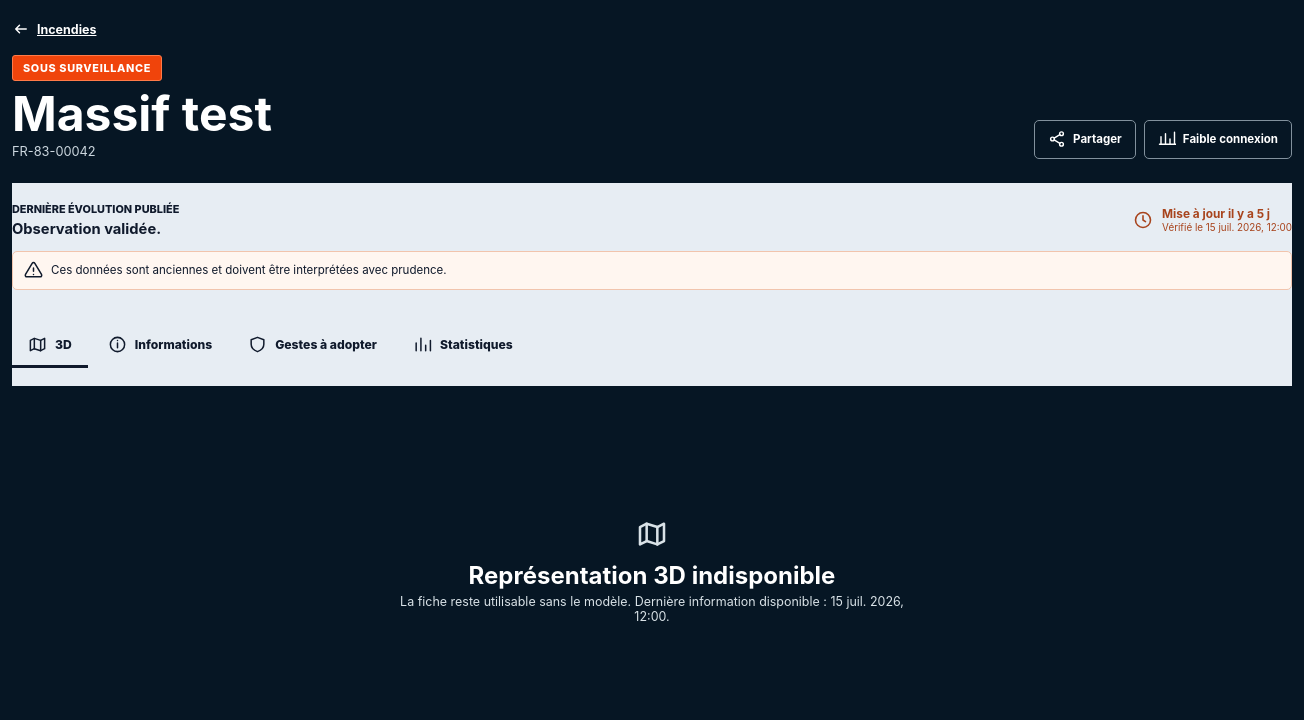
Scenario: désactive explicitement la 3D en mode faible connexion
Expected: the heading "Massif test" is shown, [12,89,272,139]
Click the button "Faible connexion".
click(1218, 139)  # box [1144,120,1292,159]
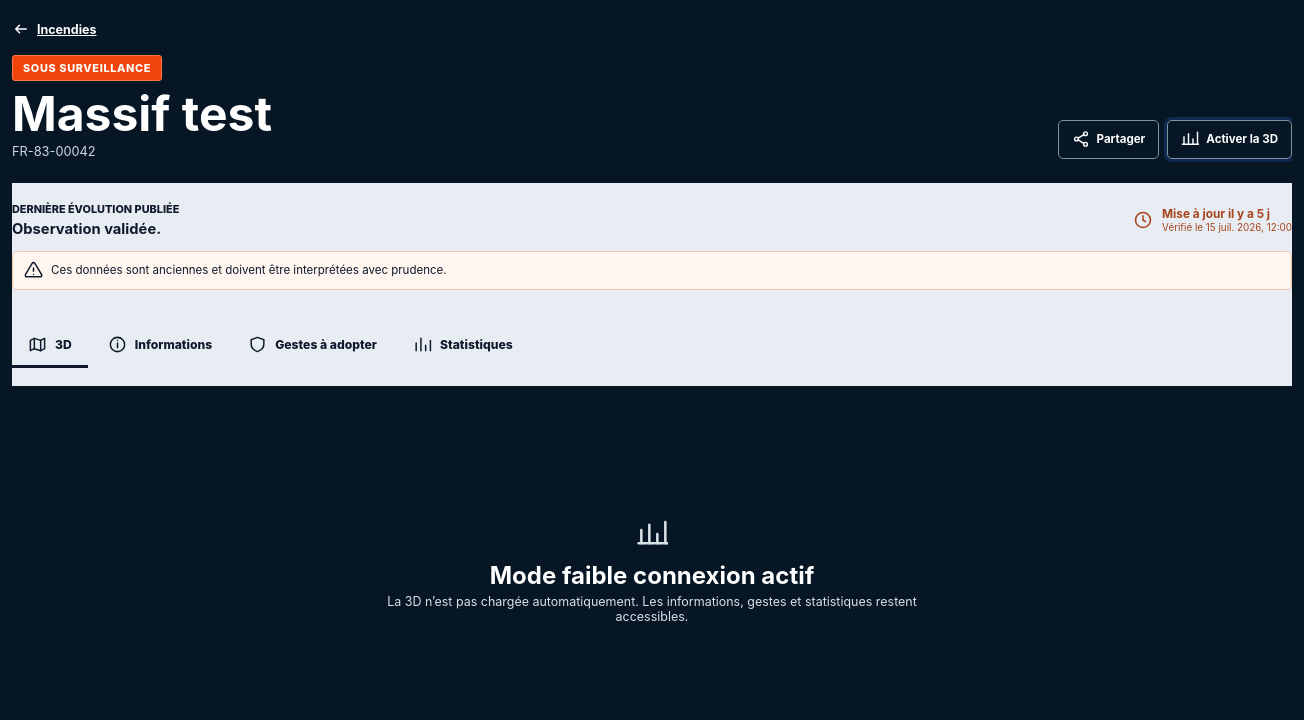
Expected: the heading "Mode faible connexion actif" is shown, [490,561,814,590]
